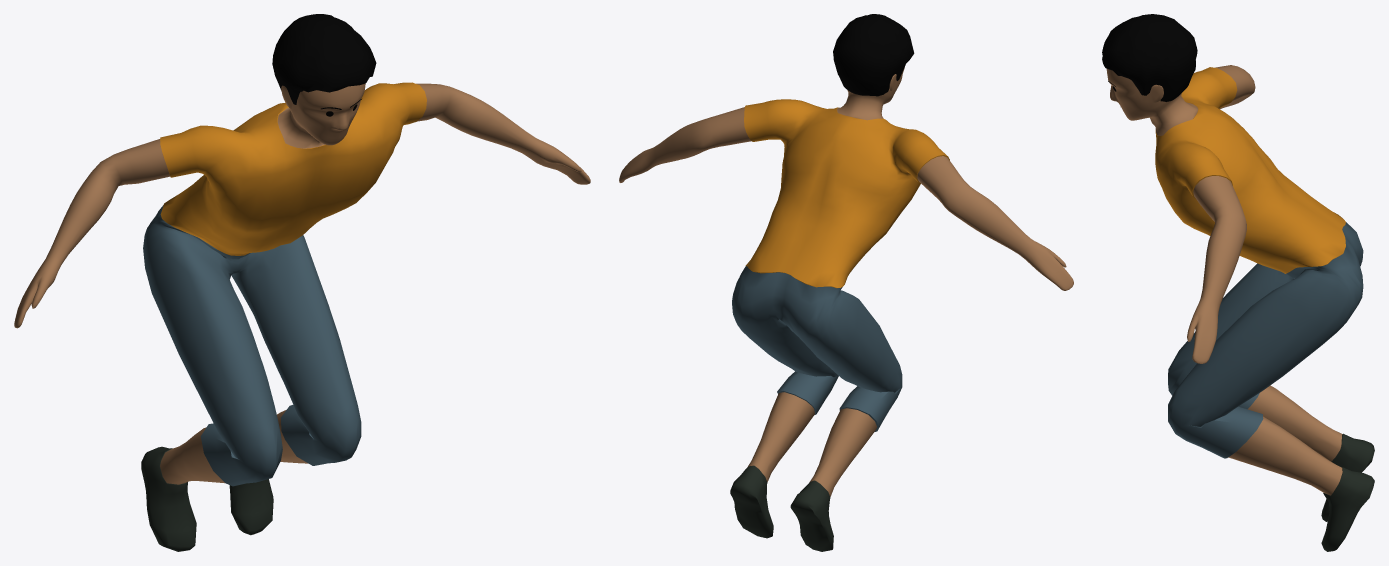
Rendered from Male_Leaping.glb.
3 views of the same model, side by side, from view 1: azimuth 30°, elevation 25°; view 2: azimuth 150°, elevation 25°; view 3: azimuth 270°, elevation 25° (orthographic). The views are drawn at different scales.
Visible parts, largest first — view 1: Male_Leaping; view 2: Male_Leaping; view 3: Male_Leaping.
Boxes of the visible parts, left/top/right/bottom form: Male_Leaping: left=14, top=14, right=590, bottom=551; Male_Leaping: left=619, top=14, right=1073, bottom=551; Male_Leaping: left=1102, top=14, right=1374, bottom=551.
Size of the model in its own units: 1.29 by 1.28 by 0.6134.
